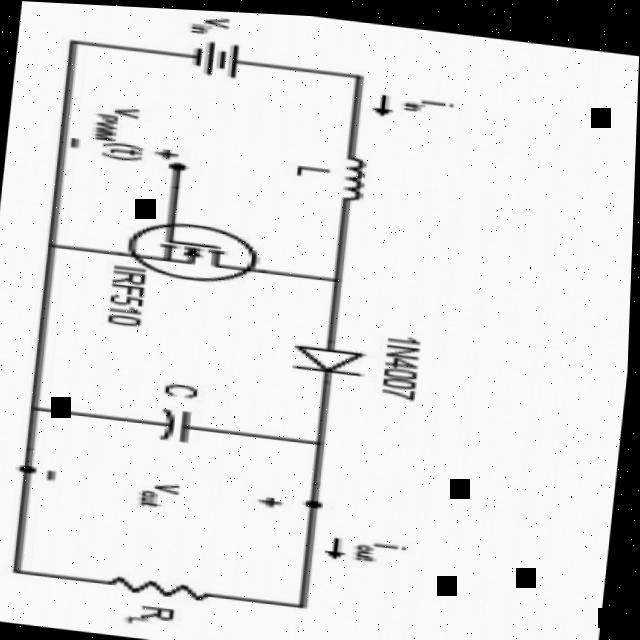capacitor: (145, 393, 232, 449)
diode: (271, 326, 377, 383)
inductor: (314, 140, 402, 204)
mosfet: (121, 211, 276, 289)
node: (298, 488, 333, 510), (164, 155, 199, 174), (12, 460, 47, 477)
resistor: (102, 566, 225, 607)
source: (162, 24, 271, 90)
